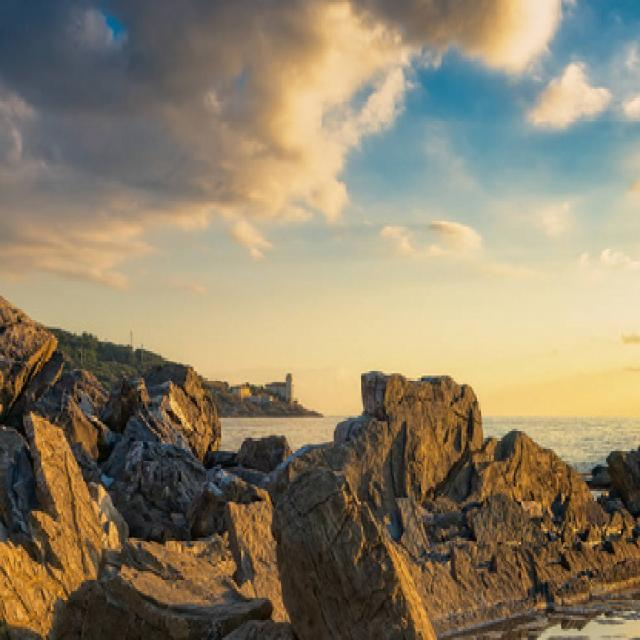reef: (304, 380, 640, 602)
